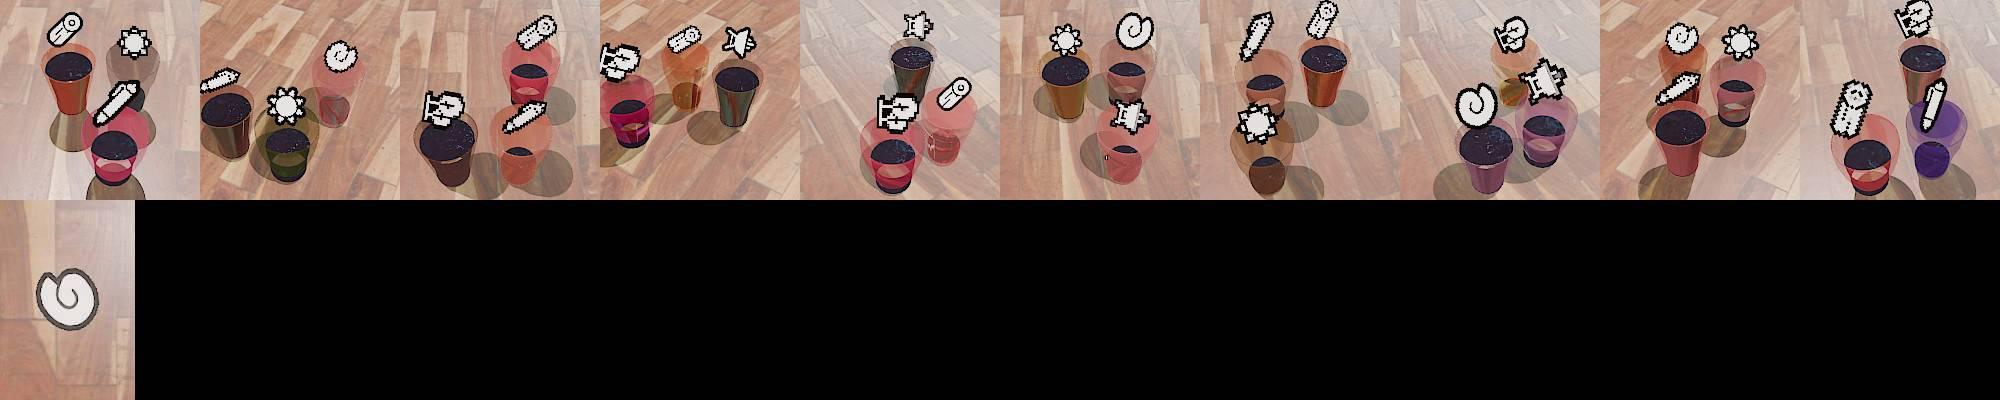icon: (34, 266, 102, 332), (1829, 77, 1874, 138), (93, 78, 143, 127), (1518, 57, 1568, 105), (1454, 82, 1499, 130), (1236, 101, 1280, 144), (1239, 11, 1274, 65), (264, 84, 308, 125), (875, 92, 920, 132), (597, 42, 642, 82), (1655, 71, 1703, 107), (421, 89, 466, 127), (516, 14, 559, 53), (502, 98, 548, 134), (1115, 11, 1155, 52), (1720, 23, 1761, 62), (1920, 76, 1948, 133), (1894, 0, 1934, 39), (1109, 97, 1151, 134), (1494, 15, 1530, 56), (1305, 0, 1340, 41), (47, 11, 84, 48), (1665, 20, 1703, 56), (721, 24, 758, 60), (1047, 22, 1083, 58), (937, 75, 972, 111), (198, 66, 242, 94), (321, 39, 358, 72), (116, 26, 153, 58), (666, 24, 703, 55), (902, 10, 934, 41)
